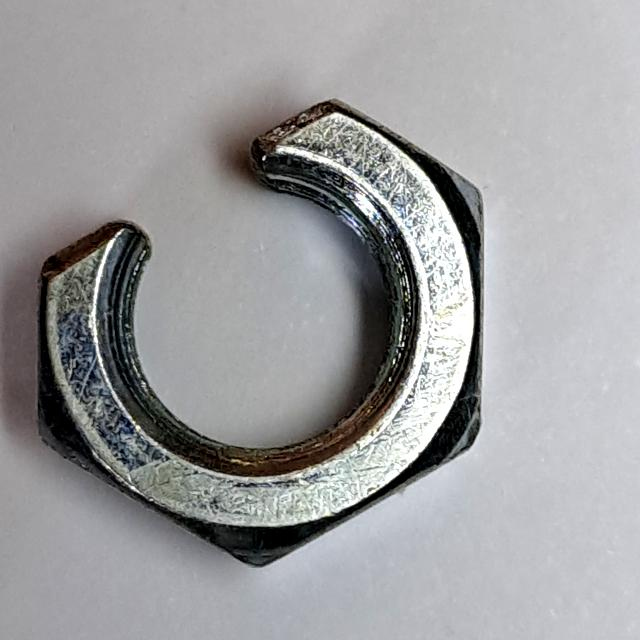Fracture: (10, 85, 499, 582)
